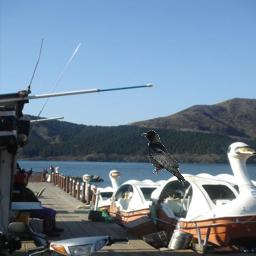Crow: (140, 130, 185, 186)
